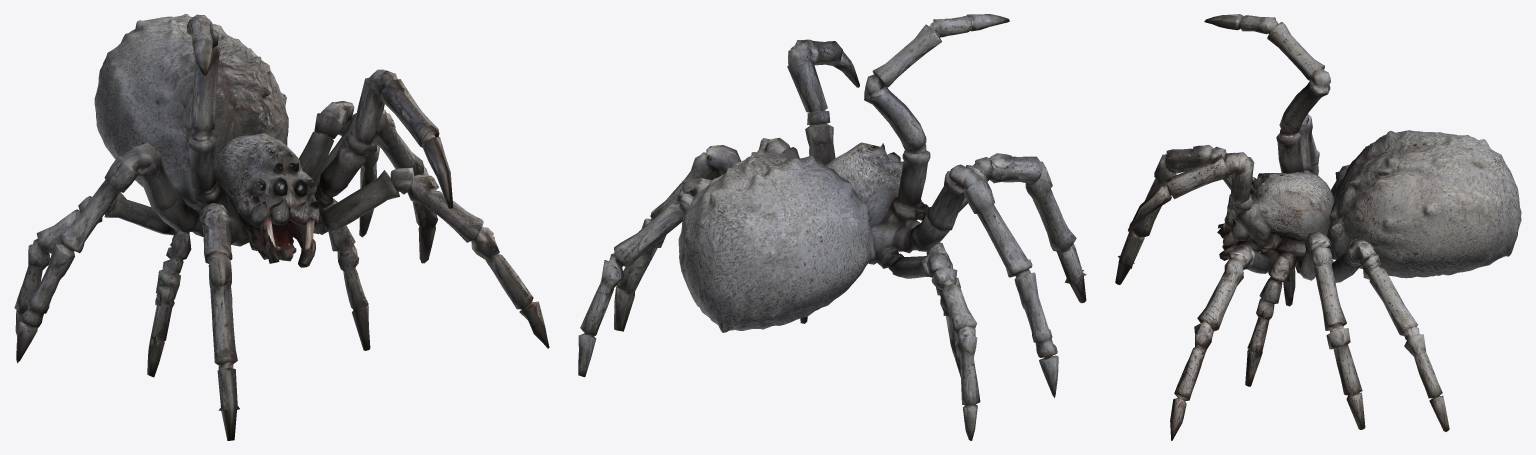
Rendered from giant-spider.glb.
The picture shows the model from 3 angles, left to right: view 1: azimuth 30°, elevation 25°; view 2: azimuth 150°, elevation 25°; view 3: azimuth 270°, elevation 25°; orthographic projection. The views are drawn at different scales.
Parts seen in each view (by area): view 1: tripo_part_1, tripo_part_0, tripo_part_14, tripo_part_2, tripo_part_5, tripo_part_4, tripo_part_8, tripo_part_7, tripo_part_6, tripo_part_15, tripo_part_9, tripo_part_16 (+3 smaller); view 2: tripo_part_0, tripo_part_1, tripo_part_2, tripo_part_14, tripo_part_3, tripo_part_6, tripo_part_4, tripo_part_16, tripo_part_8; view 3: tripo_part_0, tripo_part_1, tripo_part_14, tripo_part_4, tripo_part_5, tripo_part_3, tripo_part_2, tripo_part_7, tripo_part_9, tripo_part_15.
Boxes of the visible parts, <box> form: tripo_part_1: <box>16,14,319,363</box>; tripo_part_0: <box>94,14,288,208</box>; tripo_part_14: <box>314,69,453,208</box>; tripo_part_2: <box>199,203,239,440</box>; tripo_part_5: <box>390,167,549,348</box>; tripo_part_4: <box>313,109,437,263</box>; tripo_part_8: <box>147,230,191,377</box>; tripo_part_7: <box>318,198,370,350</box>; tripo_part_6: <box>14,196,111,335</box>; tripo_part_15: <box>313,170,399,234</box>; tripo_part_9: <box>299,101,354,178</box>; tripo_part_16: <box>104,192,174,235</box>; tripo_part_0: <box>678,149,875,332</box>; tripo_part_1: <box>825,14,1058,397</box>; tripo_part_2: <box>922,153,1086,303</box>; tripo_part_14: <box>787,39,859,165</box>; tripo_part_3: <box>578,190,693,377</box>; tripo_part_6: <box>926,253,980,440</box>; tripo_part_4: <box>614,145,741,331</box>; tripo_part_16: <box>890,250,950,278</box>; tripo_part_8: <box>926,242,960,377</box>; tripo_part_0: <box>1327,130,1521,278</box>; tripo_part_1: <box>1204,14,1334,266</box>; tripo_part_14: <box>1128,152,1282,252</box>; tripo_part_4: <box>1299,231,1365,429</box>; tripo_part_5: <box>1170,247,1252,440</box>; tripo_part_3: <box>1363,255,1449,431</box>; tripo_part_2: <box>1115,145,1232,284</box>; tripo_part_7: <box>1245,256,1289,386</box>; tripo_part_9: <box>1332,238,1377,282</box>; tripo_part_15: <box>1233,244,1296,273</box>.
Size of the model in its own units: 0.9774 by 0.7609 by 0.9167.
Materials: 1 (1 with a texture image).
